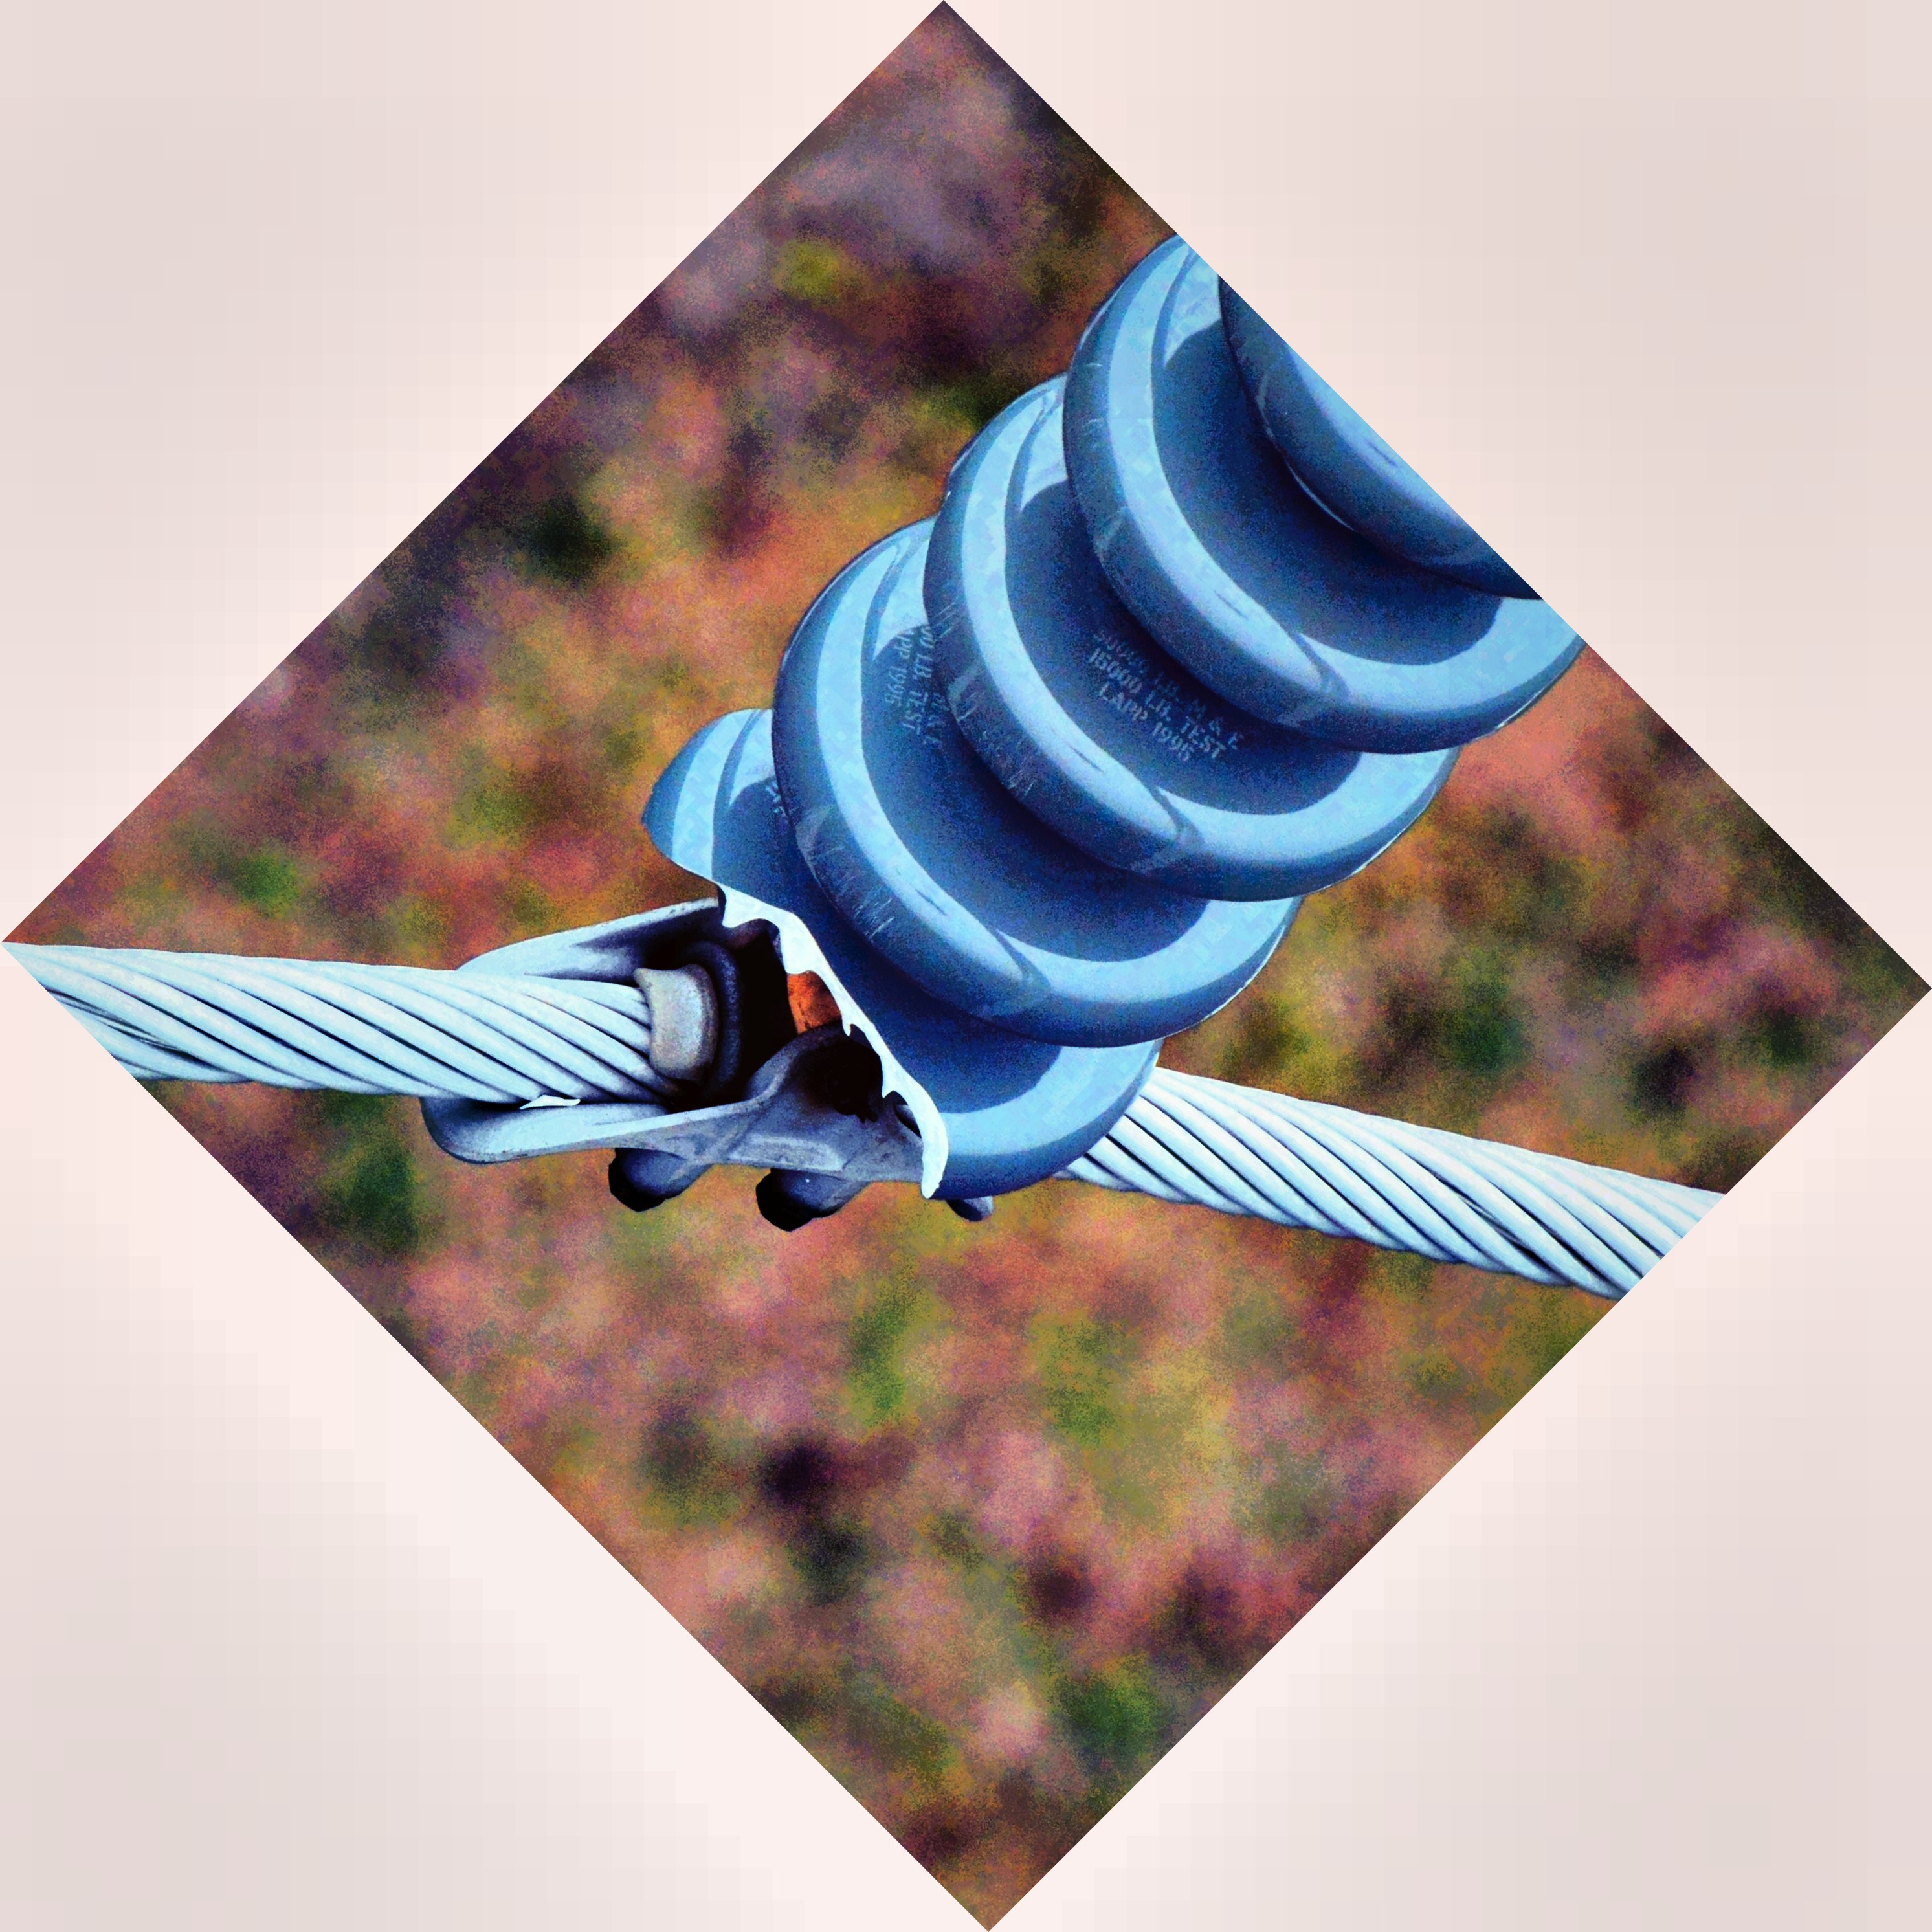insulator breakage: (619, 731, 1159, 1205)
